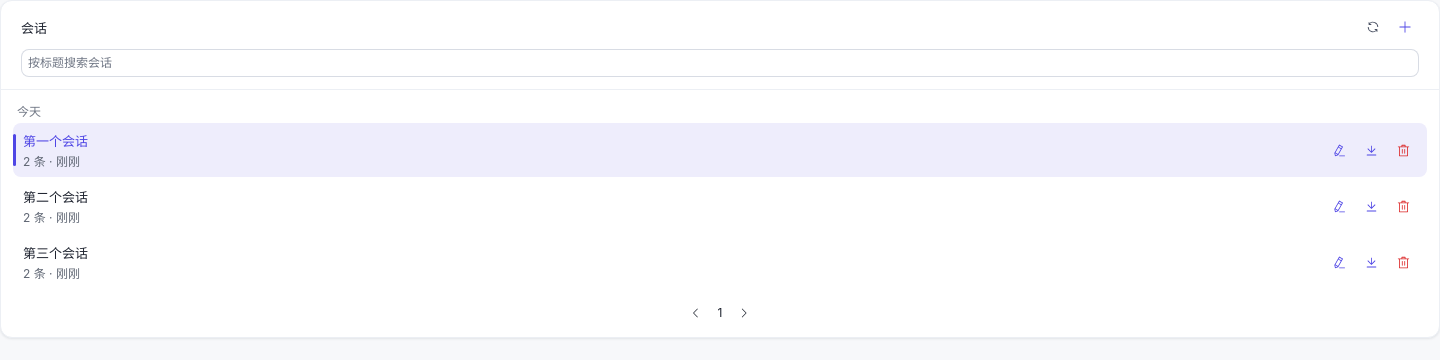
it: 重命名：切换会话必须退出编辑态 › 点重命名图标后该行出现输入框，原标题行消失
Click the button named "重命名会话：第一个会话" at {"x": 1339, "y": 150}, box [1325,136,1353,164]
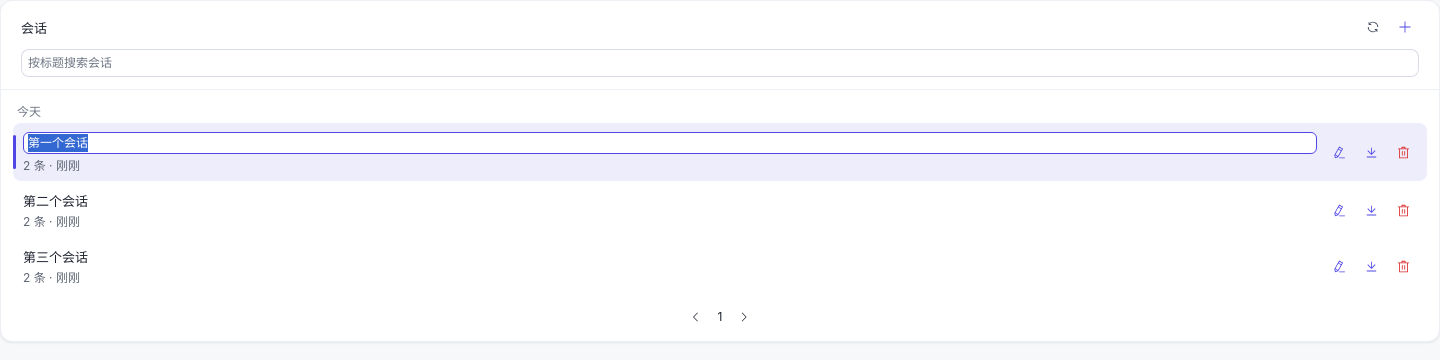
Expected: the number of fields with class "chat-sessions__rename" is 1, [23,132,1317,154]
Expected: the number of elements with class "chat-sessions__title-text" is 2, [23,193,88,209]; [23,249,88,265]
Expected: the field with class "chat-sessions__rename" holds "第一个会话", [23,132,1317,154]
